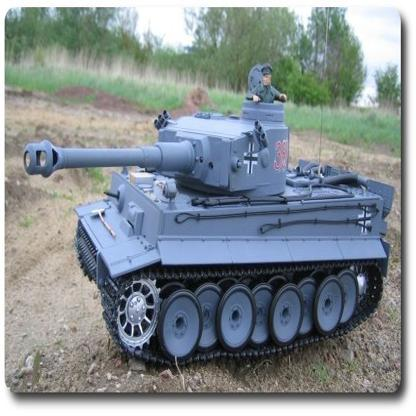Tank: (15, 81, 398, 366)
